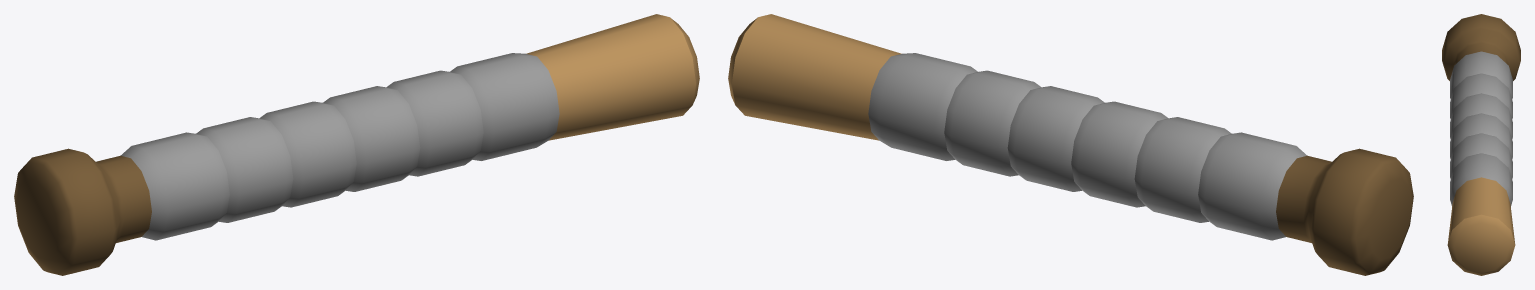
Rendered from ToyHandleBat.FBX.
3 views of the same model, side by side, from view 1: azimuth 30°, elevation 25°; view 2: azimuth 150°, elevation 25°; view 3: azimuth 270°, elevation 25° (orthographic). The views are drawn at different scales.
Visible parts, largest first — view 1: BaseballBat; view 2: BaseballBat; view 3: BaseballBat.
Boxes of the visible parts, <box> form: BaseballBat: <box>14,14,699,275</box>; BaseballBat: <box>728,14,1413,275</box>; BaseballBat: <box>1442,14,1520,275</box>.
Size of the model in its own units: 106 by 17.58 by 17.58.
